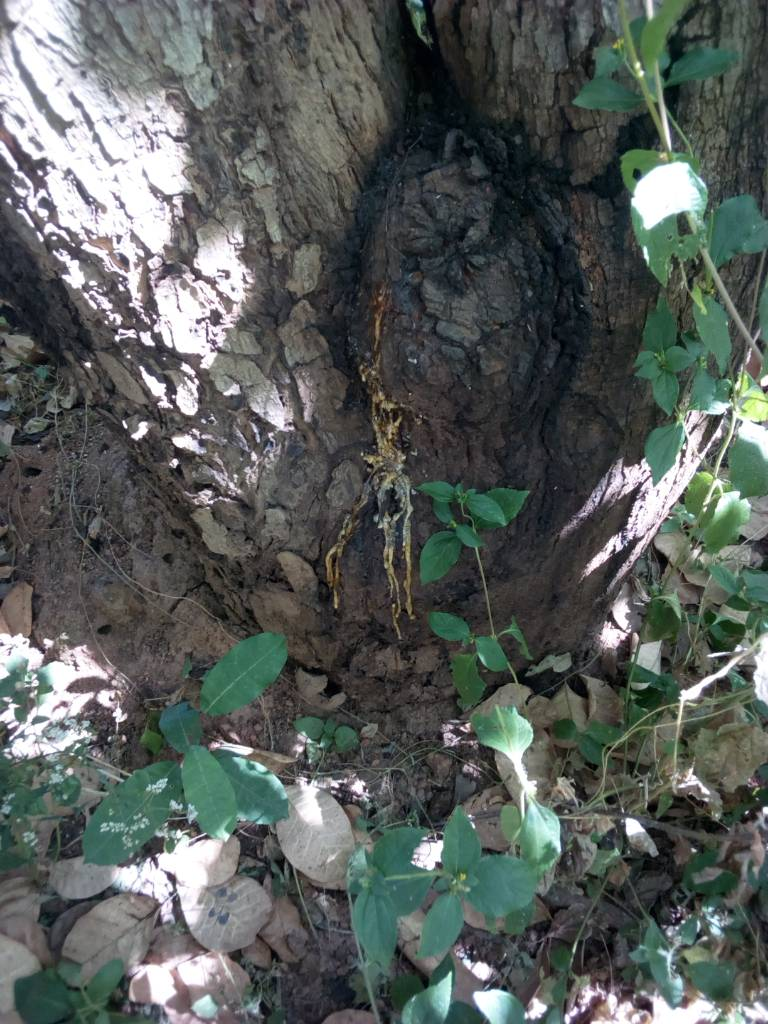Gommose: (329, 142, 593, 613)
